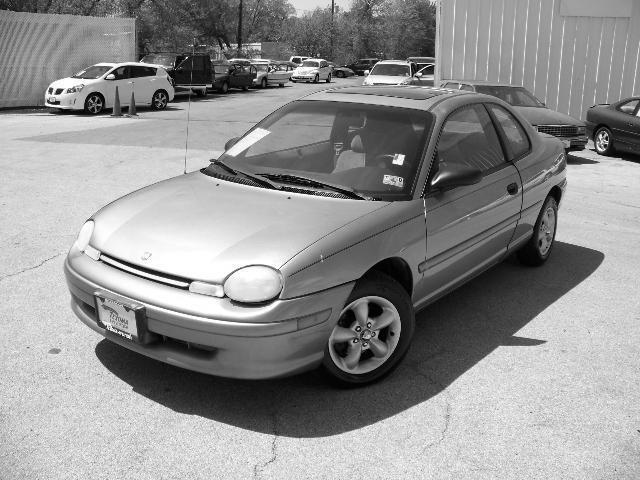car: (61, 85, 572, 393)
